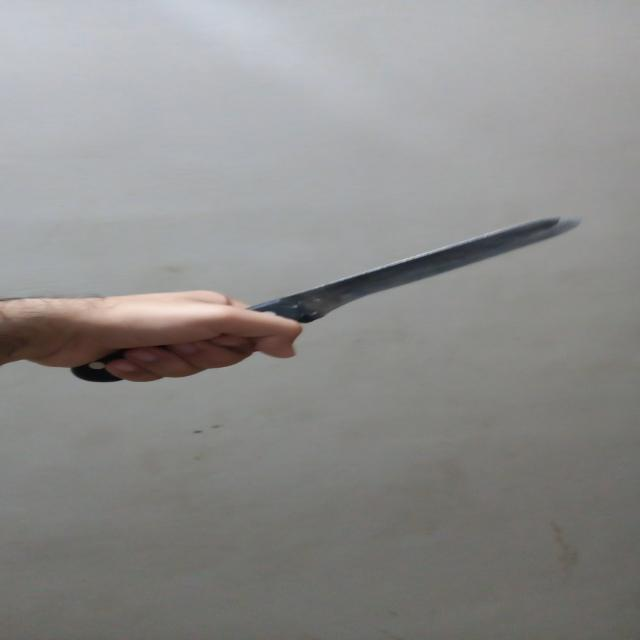Knife: (68, 214, 598, 386)
